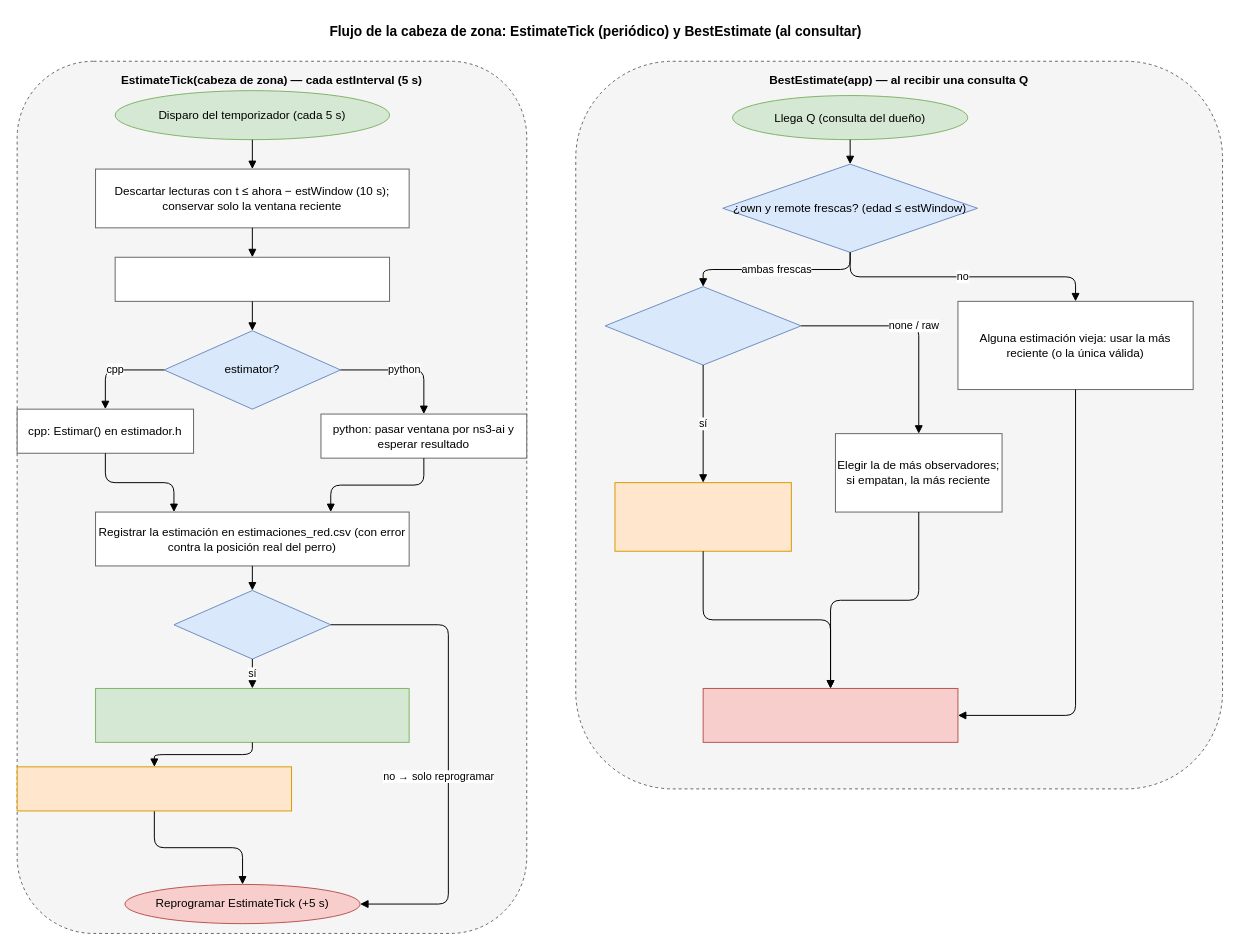
Image size: 1240x951. Some labels were removed from this diagram. The shapes that lost their labels are listed below. From the top down, each one's centre as x and y in pixels, then its label:
pixel 252 278: Contar observadores distintos en la ventana
pixel 702 325: zoneFusion = merge?
pixel 702 516: Fusión: promedio de x,y ponderado por observadores; edad = la de la más vieja
pixel 252 624: ¿resultado válido?
pixel 252 714: Guardar como estimación propia (own): t, x, y, observadores, zona
pixel 830 714: Enviar A (respuesta) al dueño con la estimación elegida
pixel 154 788: Enviar E (intercambio) a la otra cabeza de zona
